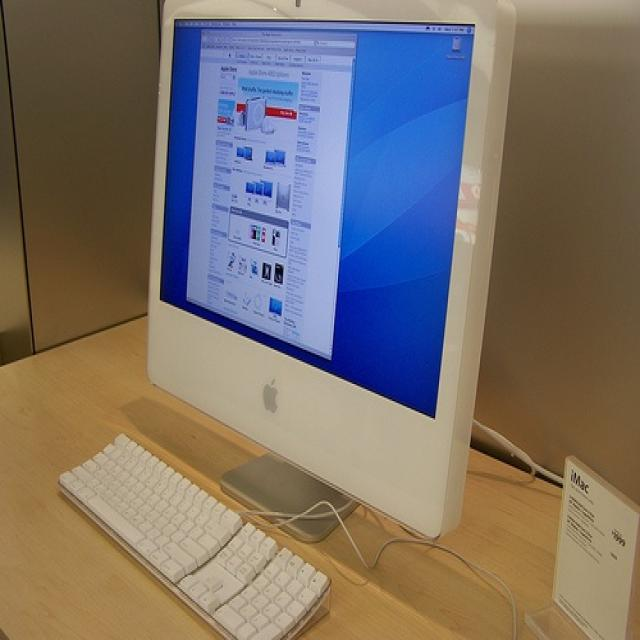tvmonitor: (150, 1, 518, 540)
